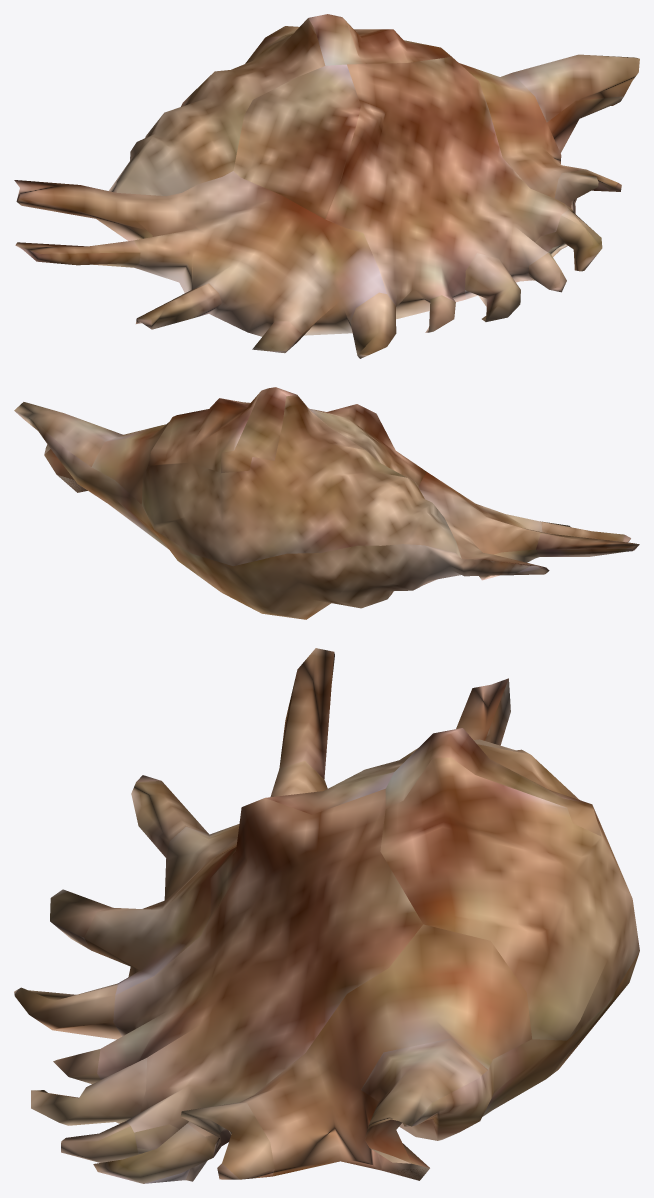
Rendered from design-lambis-shell.glb.
3 renders of one model, top to bottom at view 1: azimuth 30°, elevation 25°; view 2: azimuth 150°, elevation 25°; view 3: azimuth 270°, elevation 25°, orthographic. The views are drawn at different scales.
Visible parts, largest first — view 1: lambis_shell; view 2: lambis_shell; view 3: lambis_shell.
Boxes of the visible parts, x1,y1,x2,y2 form: lambis_shell: (14, 14, 639, 358); lambis_shell: (14, 387, 639, 619); lambis_shell: (14, 648, 639, 1183).
Bounding box in the file's own units: 0.1387 × 0.0464 × 0.0744.
Materials: 1 (1 with a texture image).
